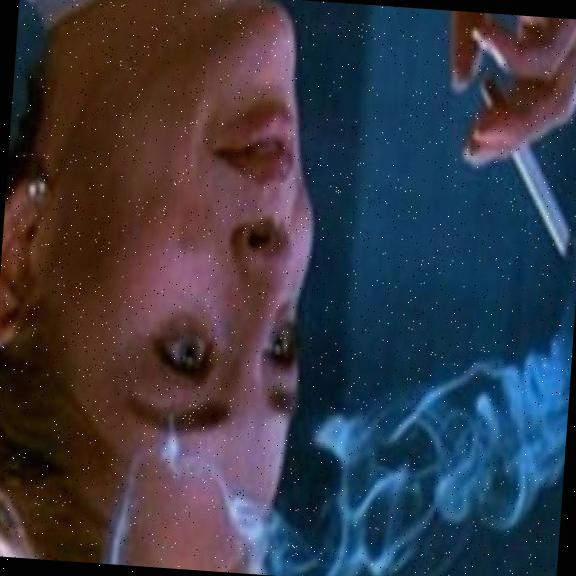smoke: (293, 314, 573, 576)
